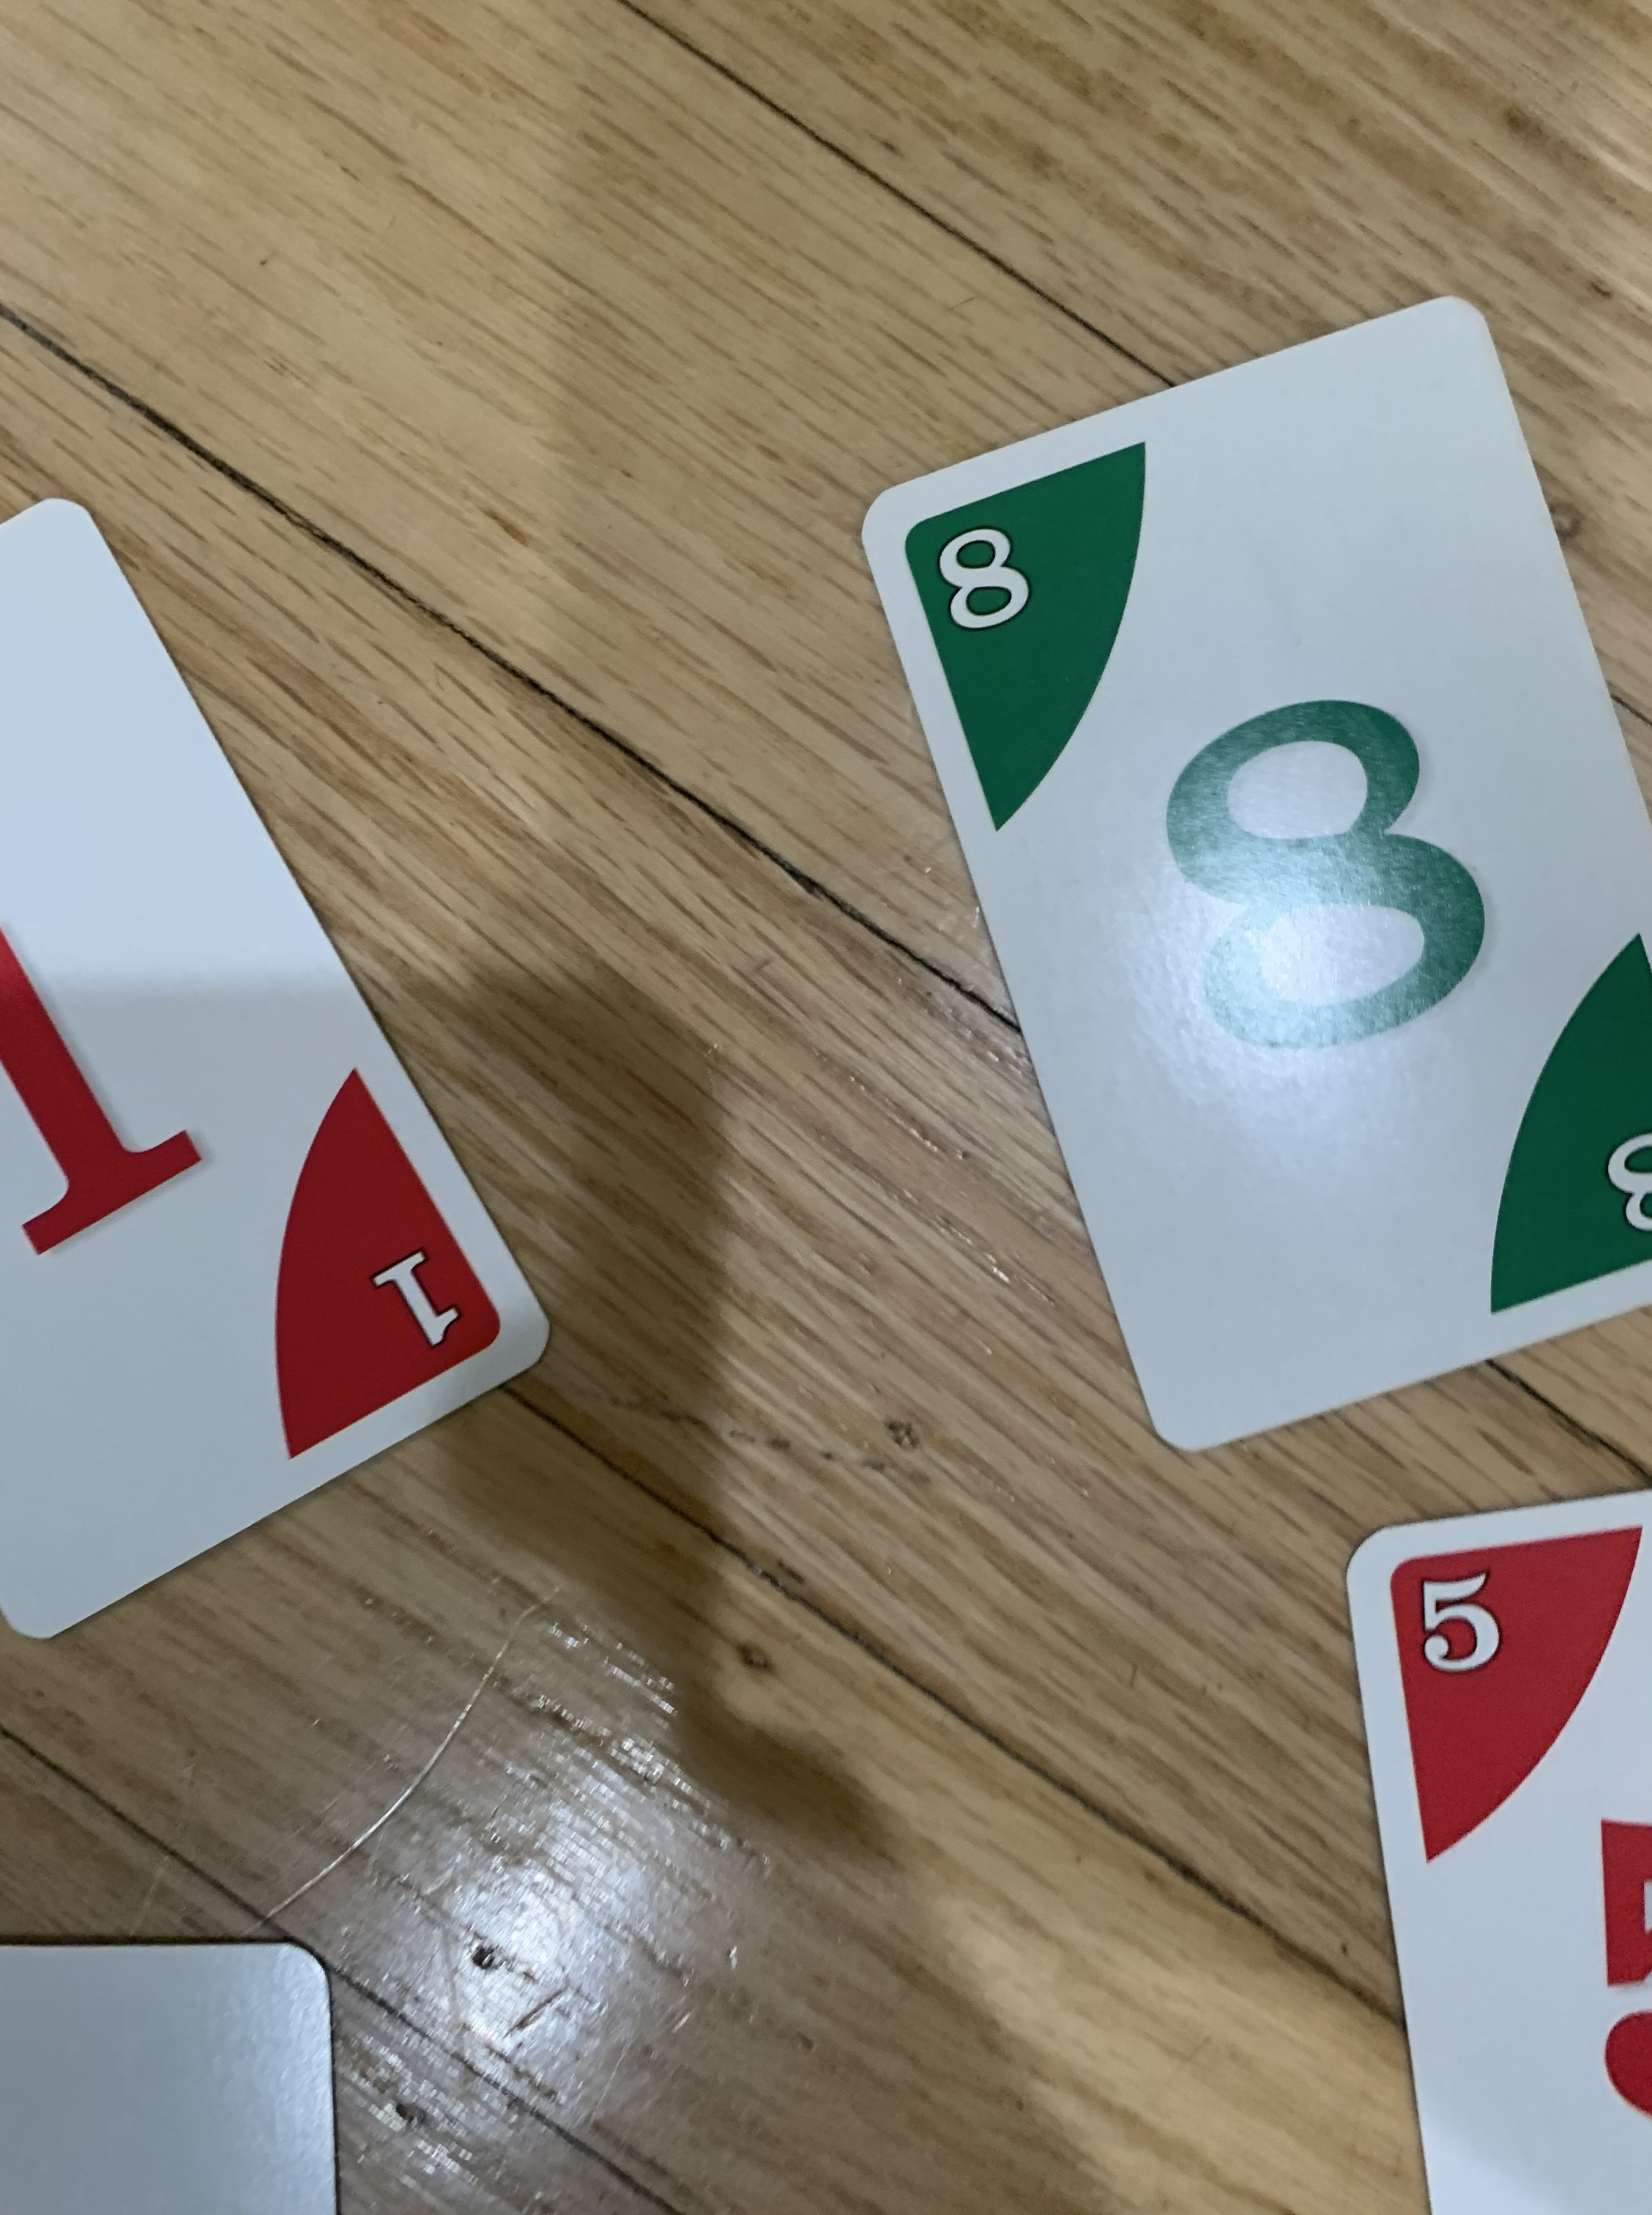eight: (854, 281, 1652, 1470)
